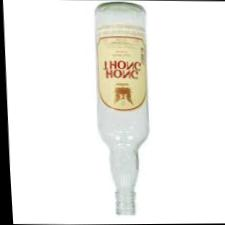glass: (88, 1, 156, 216)
